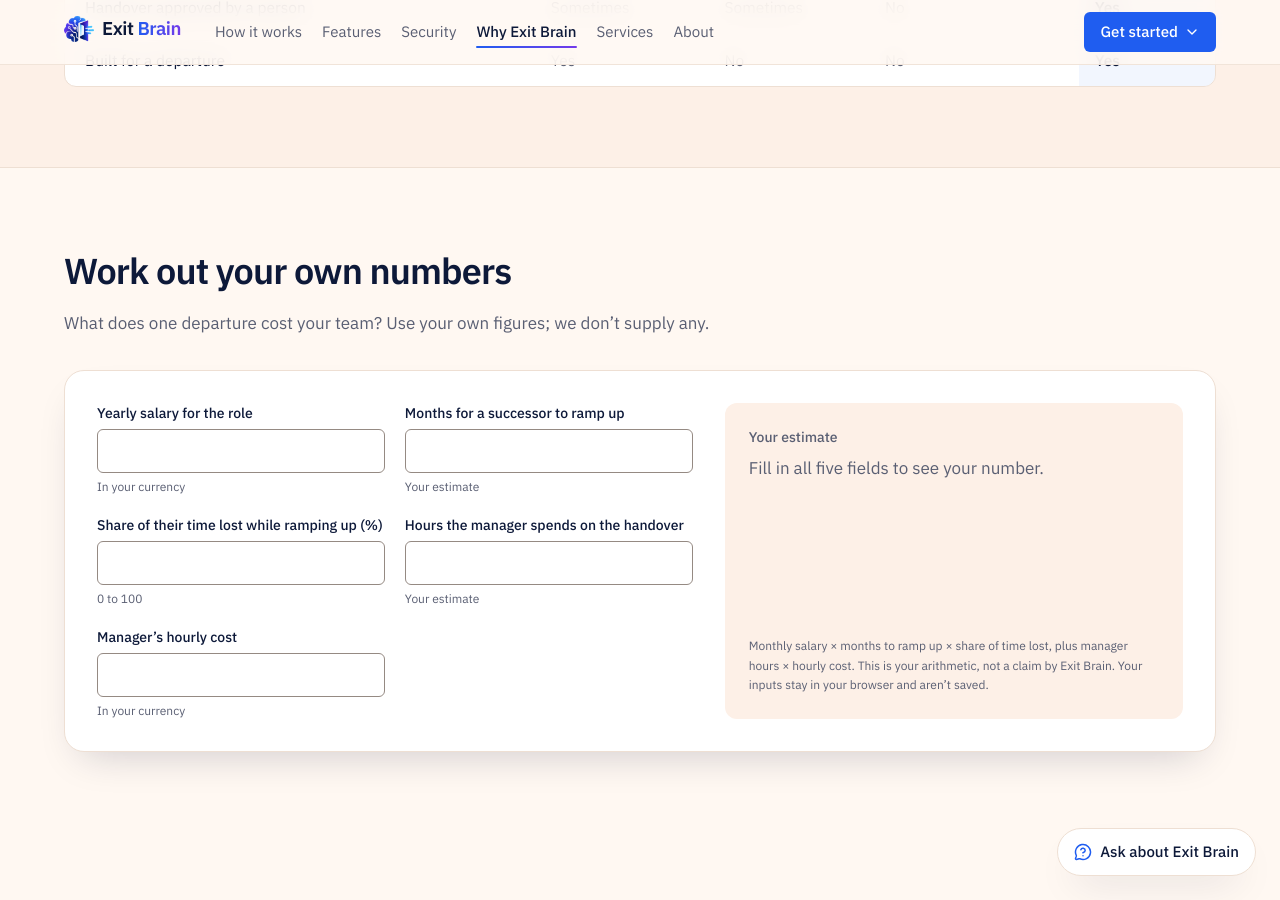
why exit brain page (W5) › worksheet starts empty and computes only the visitor’s own numbers
(page scrolled)
Expected: the text "Fill in all five fields to see your number." is shown, top-left (749, 457), bottom-right (1044, 479)
Type "120000" into the number field labelled "Yearly salary for the role" at (241, 451), box top-left (97, 429), bottom-right (385, 473)
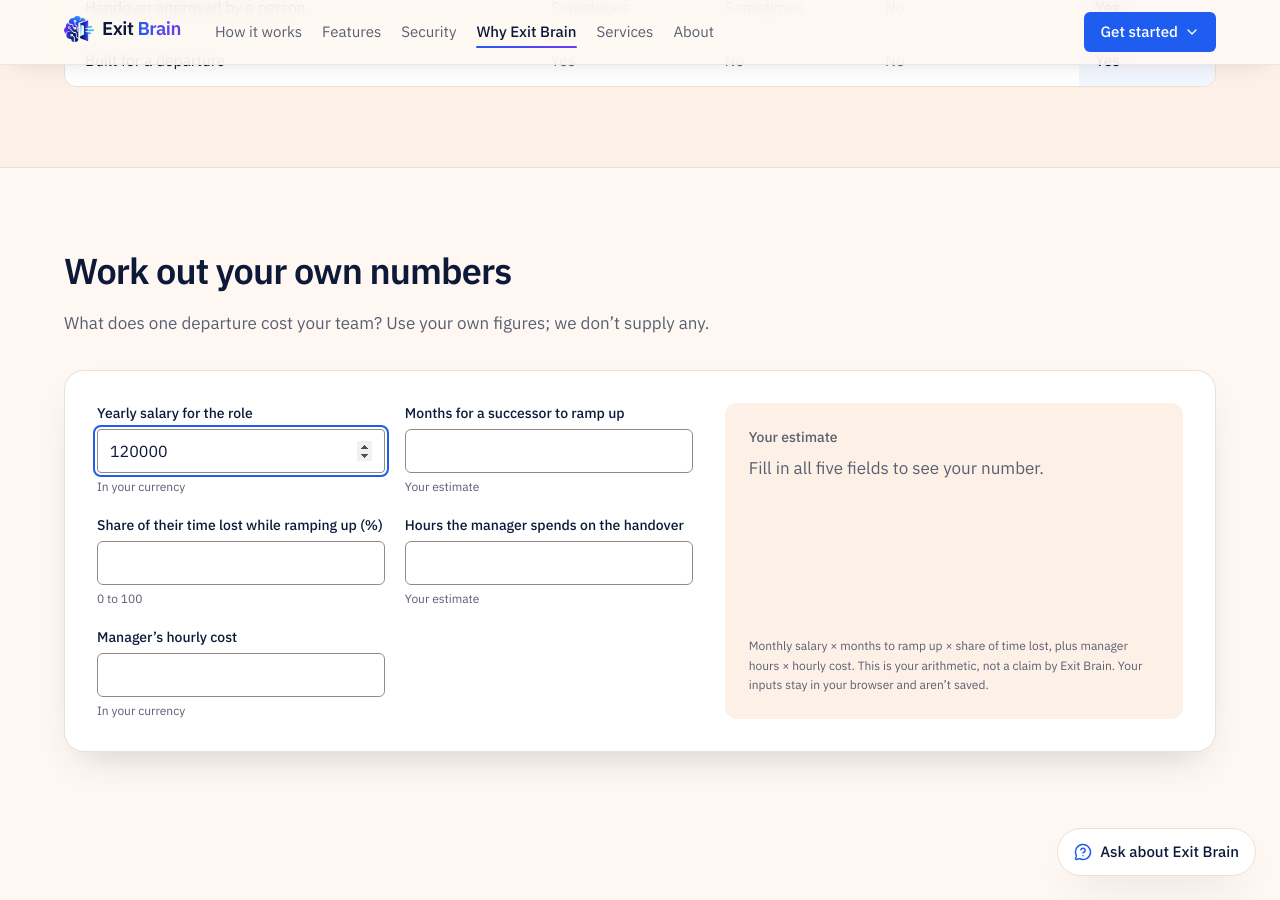
Type "3" into the number field labelled "Months for a successor to ramp up" at (549, 451), box top-left (405, 429), bottom-right (693, 473)
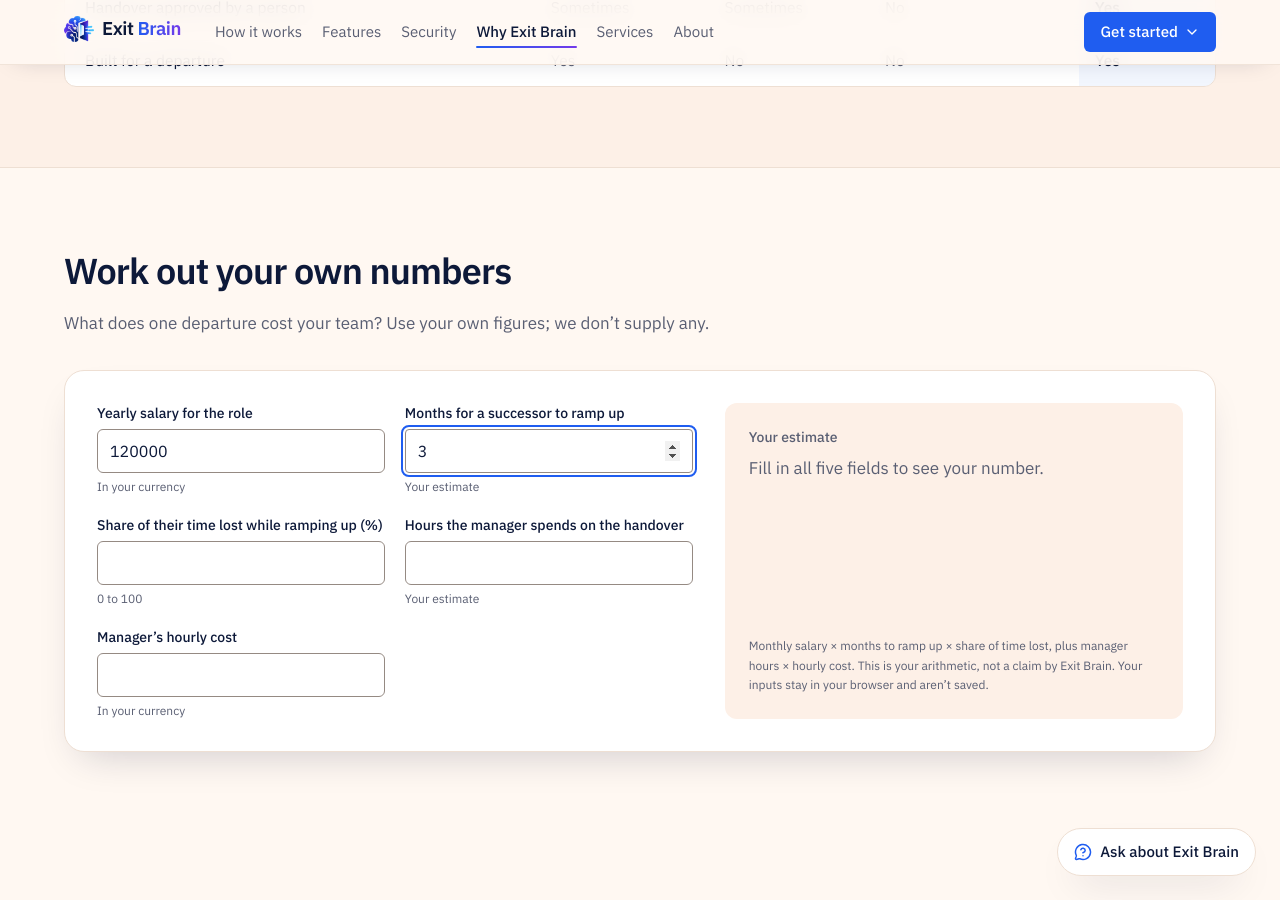
Type "50" into the number field labelled "Share of their time lost while ramping up (%)" at (241, 563), box top-left (97, 541), bottom-right (385, 585)
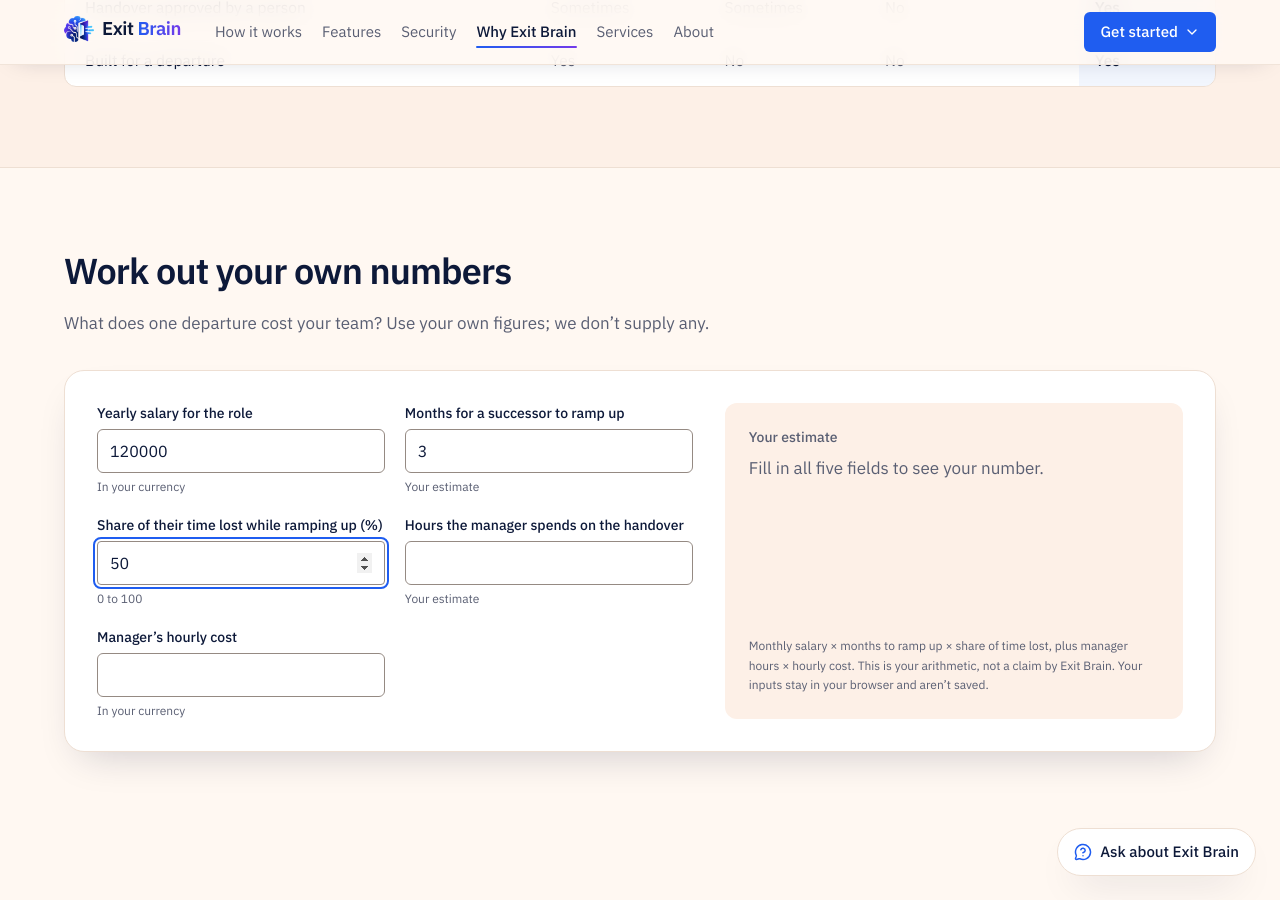
Type "20" into the number field labelled "Hours the manager spends on the handover" at (549, 563), box top-left (405, 541), bottom-right (693, 585)
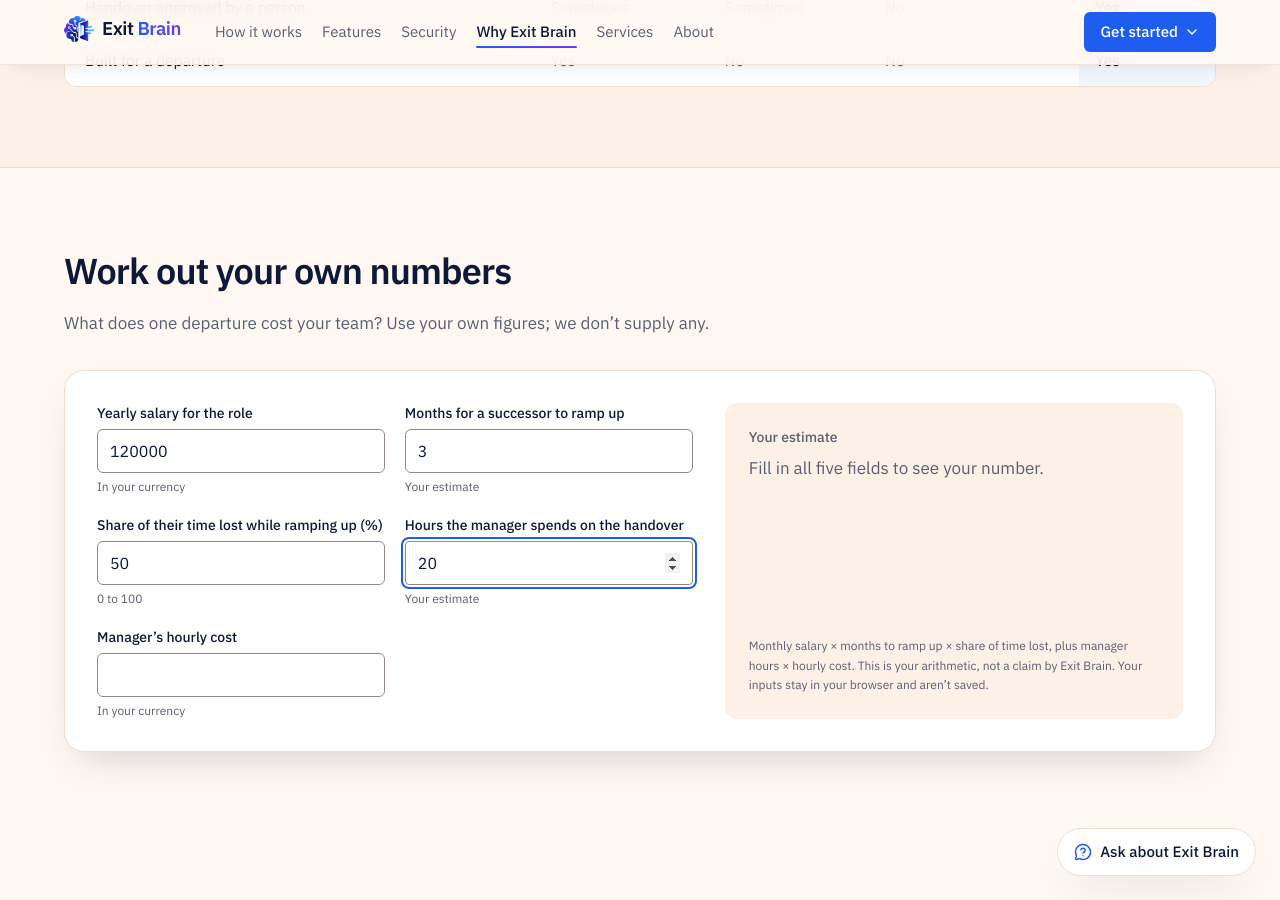
Type "100" into the number field labelled "Manager’s hourly cost" at (241, 675), box top-left (97, 653), bottom-right (385, 697)
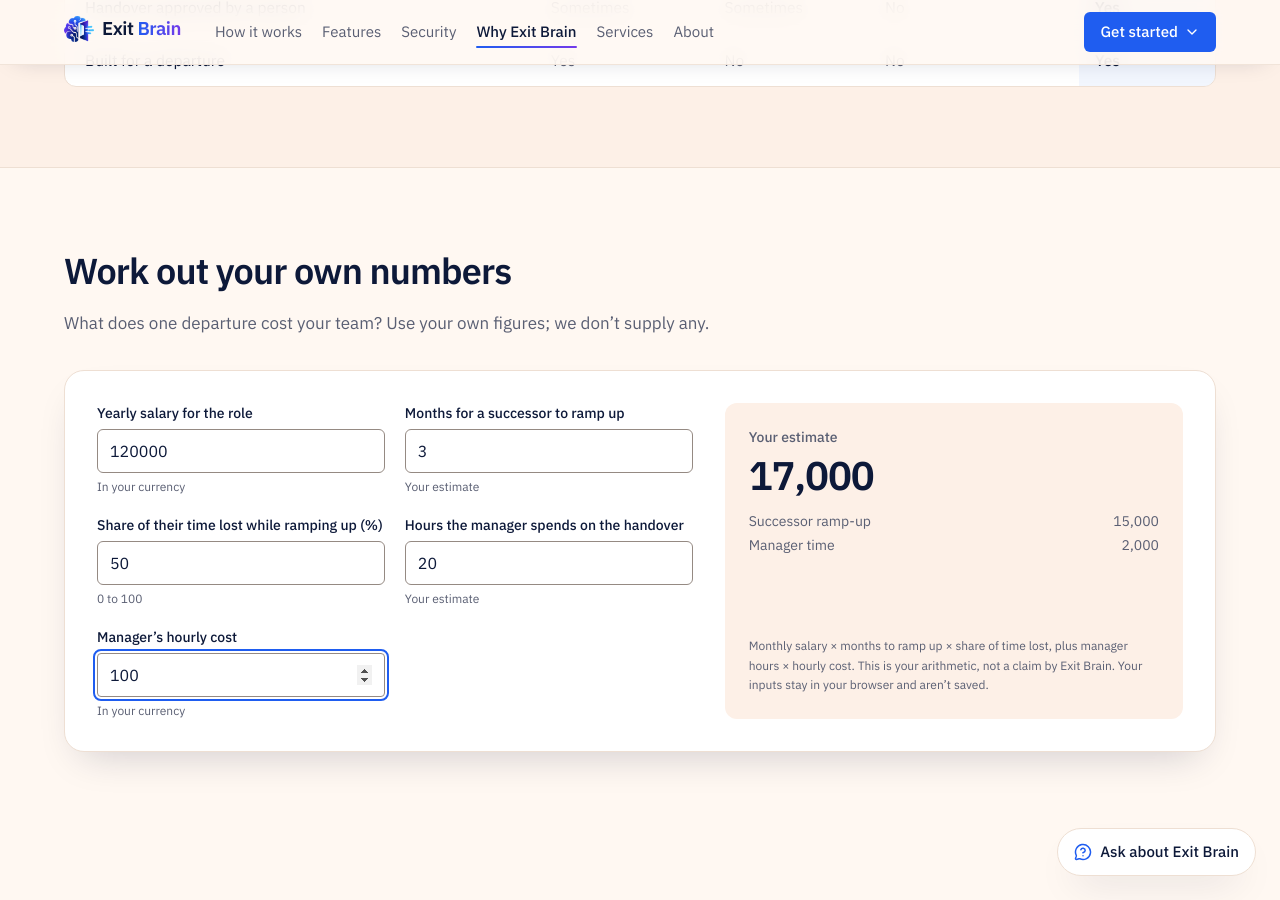
Now the text "17,000" is shown, box top-left (749, 449), bottom-right (874, 501)
